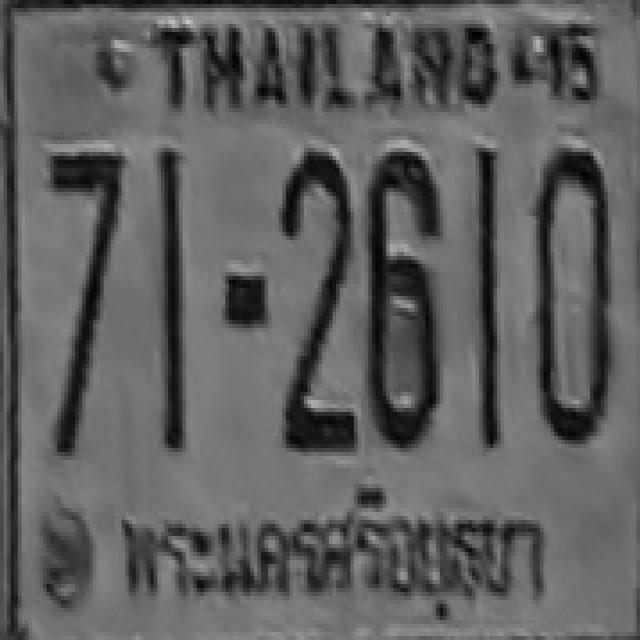0: (531, 144, 610, 340)
1: (472, 146, 497, 354)
7: (48, 148, 124, 332)
Ayutthaya: (101, 477, 580, 628)
